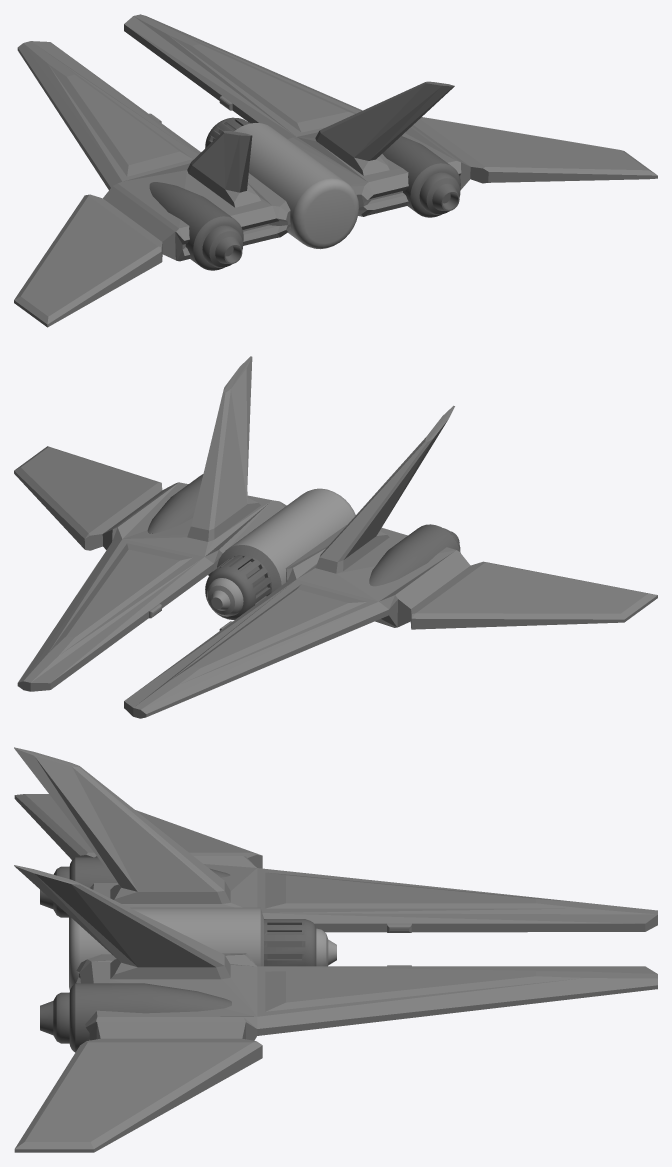
Rendered from Flivver.obj.
The picture shows the model from 3 angles, top to bottom: view 1: azimuth 30°, elevation 25°; view 2: azimuth 150°, elevation 25°; view 3: azimuth 270°, elevation 25°; orthographic projection. The views are drawn at different scales.
Visible parts, largest first — view 1: Body, Engine, Capsule, Head; view 2: Body, Capsule, Engine, Head; view 3: Body, Engine, Capsule, Head.
Boxes of the visible parts, x1,y1,x2,y2 form: Body: (14,14,657,327); Engine: (149,136,460,270); Capsule: (234,123,358,249); Head: (205,117,250,148); Body: (14,356,657,718); Capsule: (207,488,355,616); Engine: (147,474,460,586); Head: (205,555,271,619); Body: (14,747,657,1152); Engine: (40,857,231,1052); Capsule: (69,907,336,990); Head: (264,919,316,966).
Bounding box in the file's own units: 4.69 × 1.15 × 3.61.
